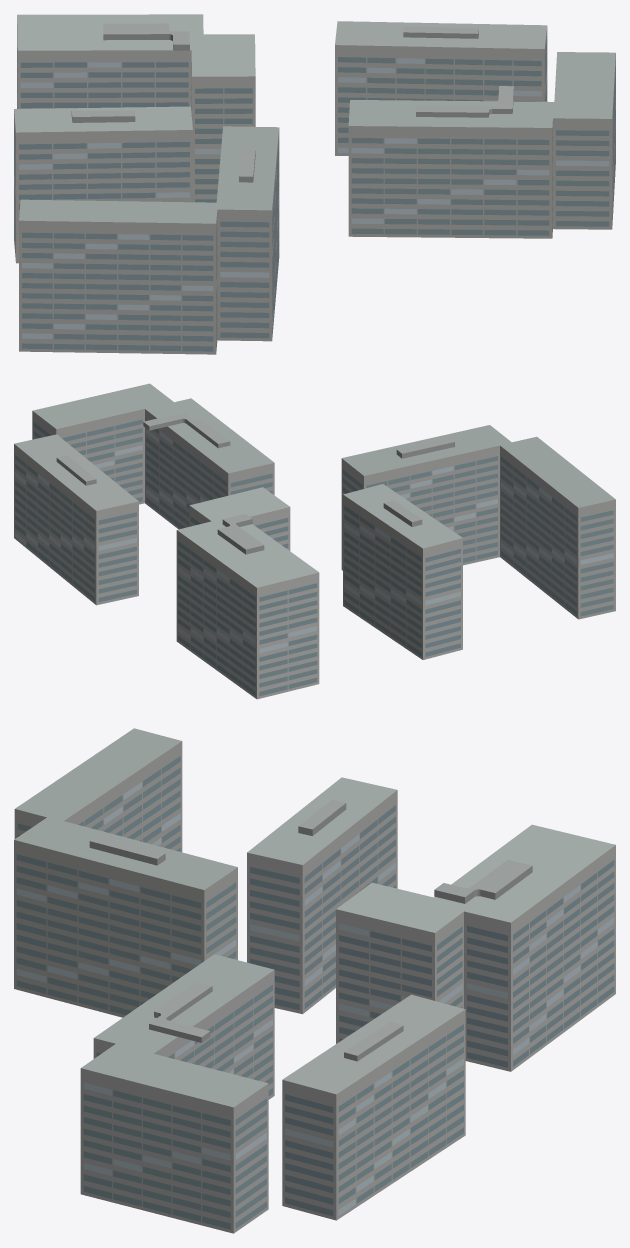
File: apt-a15004505.glb
The picture shows the model from 3 angles, top to bottom: view 1: azimuth 30°, elevation 25°; view 2: azimuth 150°, elevation 25°; view 3: azimuth 270°, elevation 25°; orthographic projection. The views are drawn at different scales.
Parts seen in each view (by area): view 1: apt-a15004505; view 2: apt-a15004505; view 3: apt-a15004505.
Boxes of the visible parts, x1=… form: apt-a15004505: x1=14, y1=14, x2=615, y2=354; apt-a15004505: x1=14, y1=383, x2=615, y2=699; apt-a15004505: x1=14, y1=728, x2=615, y2=1233.
Bounding box in the file's own units: 203 × 41.43 × 145.
